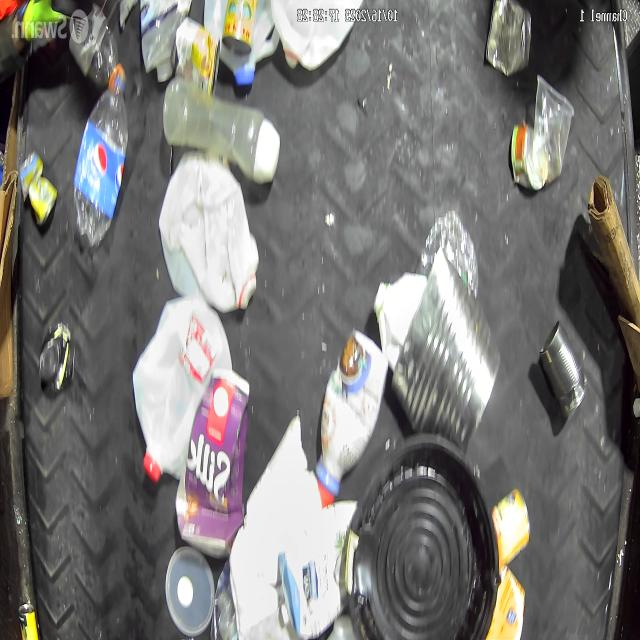can: (392, 248, 501, 462), (542, 316, 592, 430), (172, 23, 220, 96), (18, 156, 58, 233), (216, 0, 265, 54)
milk_jug: (126, 298, 238, 487), (158, 152, 262, 312)
plastic_bottle: (72, 61, 128, 249)
